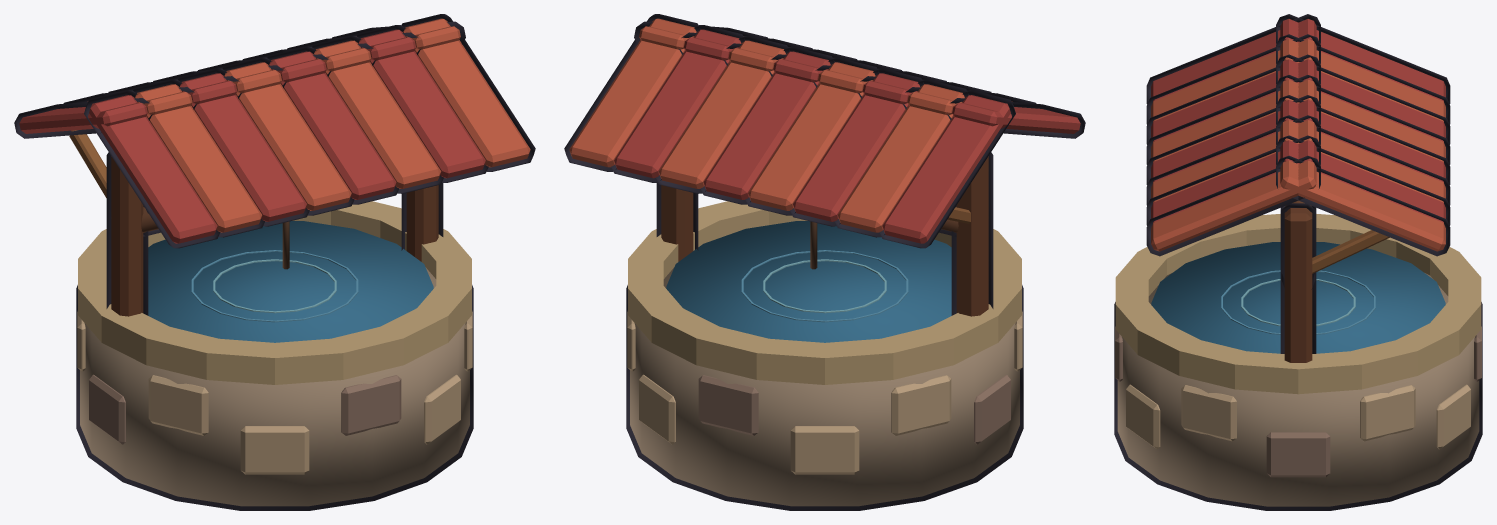
File: well.glb
3 renders of one model, left to right at view 1: azimuth 30°, elevation 25°; view 2: azimuth 150°, elevation 25°; view 3: azimuth 270°, elevation 25°, orthographic. The views are drawn at different scales.
Parts seen in each view (by area): view 1: well, well_water_ripple; view 2: well, well_water_ripple; view 3: well, well_water_ripple.
Boxes of the visible parts, <box> form: well: <box>14,14,535,510</box>; well_water_ripple: <box>191,250,358,322</box>; well: <box>564,14,1085,510</box>; well_water_ripple: <box>741,250,908,322</box>; well: <box>1114,14,1482,510</box>; well_water_ripple: <box>1221,270,1375,334</box>.
Size of the model in its own units: 3.26 by 3.15 by 3.08.
